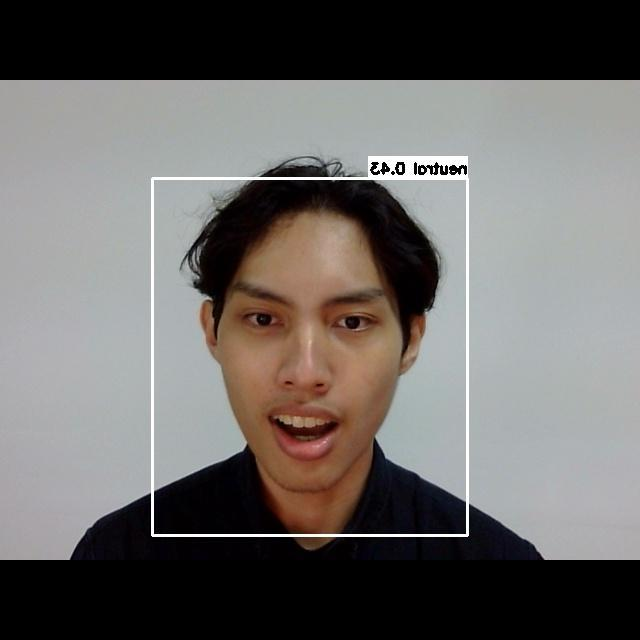Surprised: (204, 254, 414, 507)
